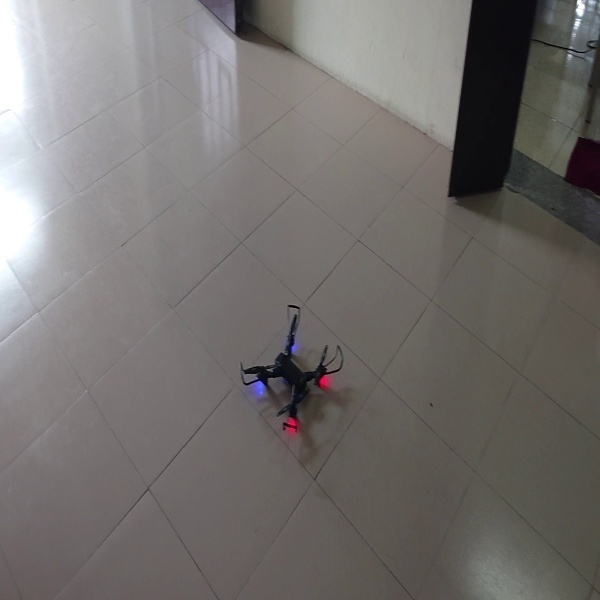drone: (237, 303, 347, 440)
